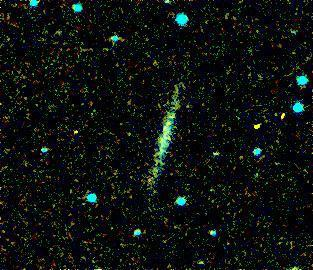star: (281, 254, 311, 270)
